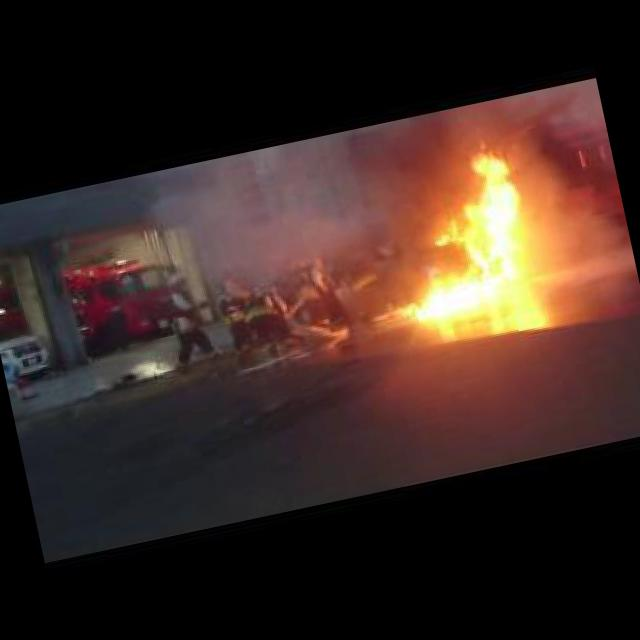Fire: (372, 144, 554, 334)
